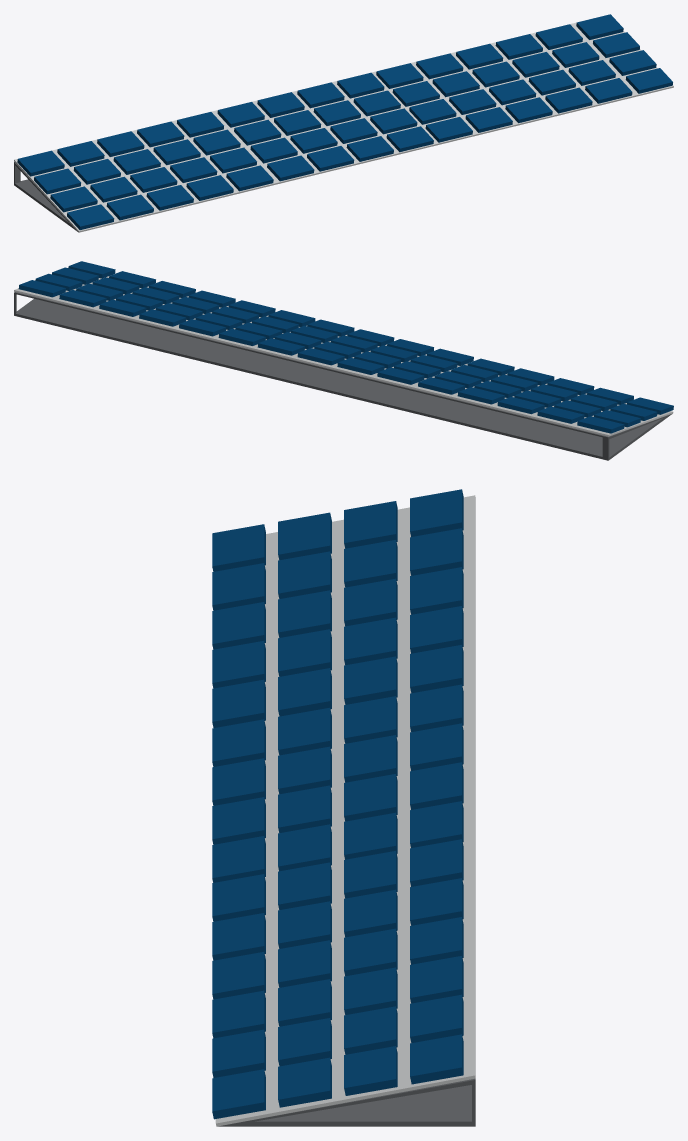
Rendered from solar-panel-4x15-small.glb.
The picture shows the model from 3 angles, top to bottom: view 1: azimuth 30°, elevation 25°; view 2: azimuth 150°, elevation 25°; view 3: azimuth 270°, elevation 25°; orthographic projection. The views are drawn at different scales.
Parts seen in each view (by area): view 1: Mesh_Mesh_head_geo.001_lambert2SG.001; view 2: Mesh_Mesh_head_geo.001_lambert2SG.001; view 3: Mesh_Mesh_head_geo.001_lambert2SG.001.
Boxes of the visible parts, x1,y1,x2,y2 form: Mesh_Mesh_head_geo.001_lambert2SG.001: (14, 14, 673, 232); Mesh_Mesh_head_geo.001_lambert2SG.001: (14, 261, 673, 460); Mesh_Mesh_head_geo.001_lambert2SG.001: (212, 489, 475, 1126).
Size of the model in its own units: 461 by 21.35 by 88.53.
